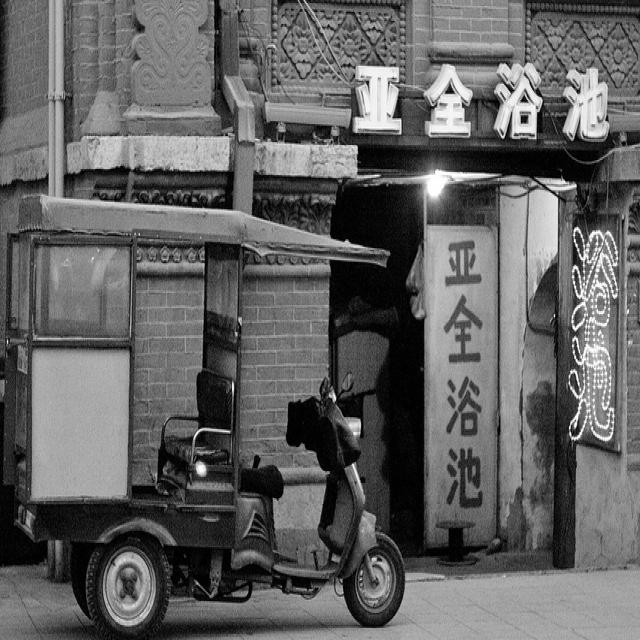motor: (229, 375, 410, 631)
